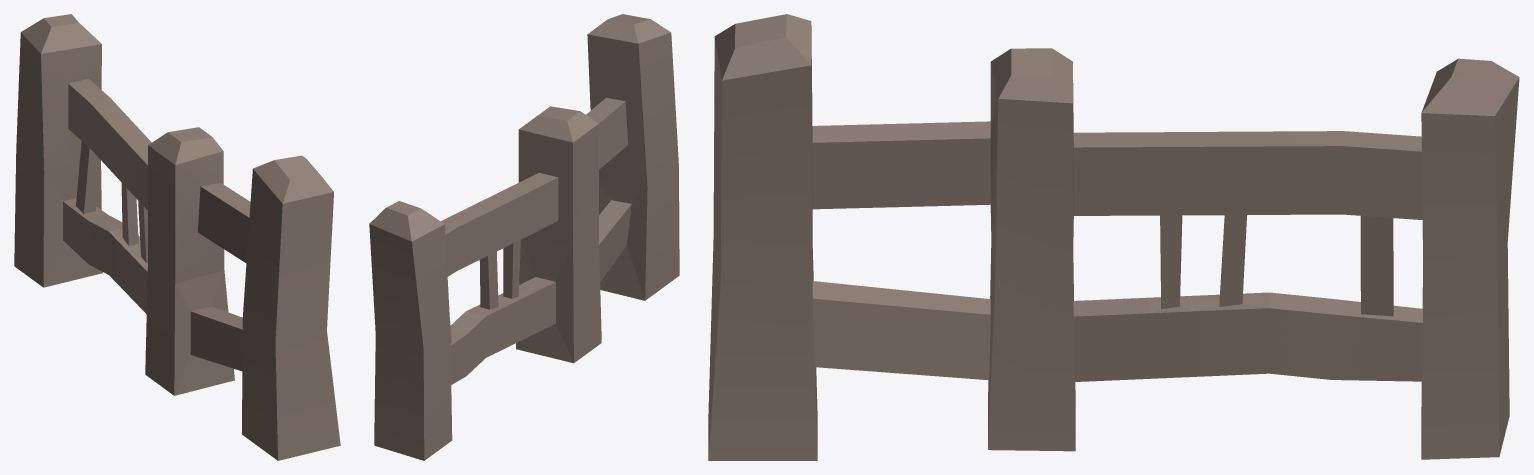
Rendered from OldFence.fbx.
3 views of the same model, side by side, from view 1: azimuth 30°, elevation 25°; view 2: azimuth 150°, elevation 25°; view 3: azimuth 270°, elevation 25° (orthographic). The views are drawn at different scales.
Parts seen in each view (by area): view 1: Fence; view 2: Fence; view 3: Fence.
Boxes of the visible parts, box(x1,y1,x2,y2) form: Fence: box(14, 14, 340, 460); Fence: box(369, 14, 679, 460); Fence: box(708, 14, 1519, 460).
Bounding box in the file's own units: 9.38 × 32.97 × 58.1.
